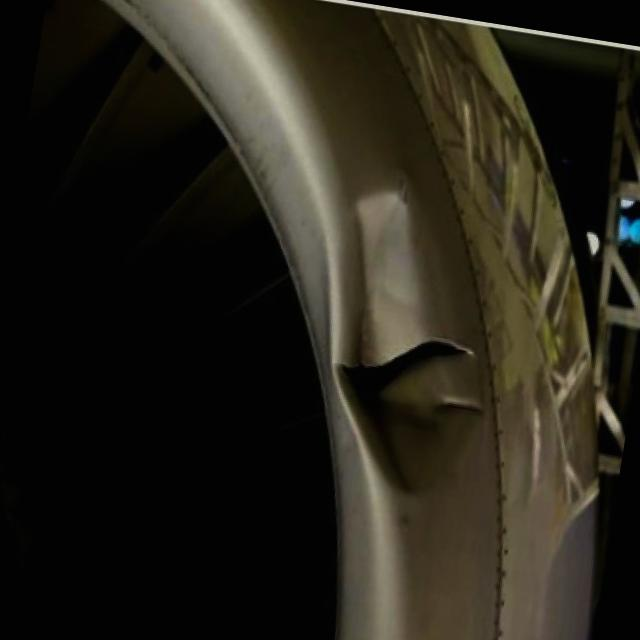crack: (322, 314, 492, 426)
dent: (309, 170, 522, 516)
